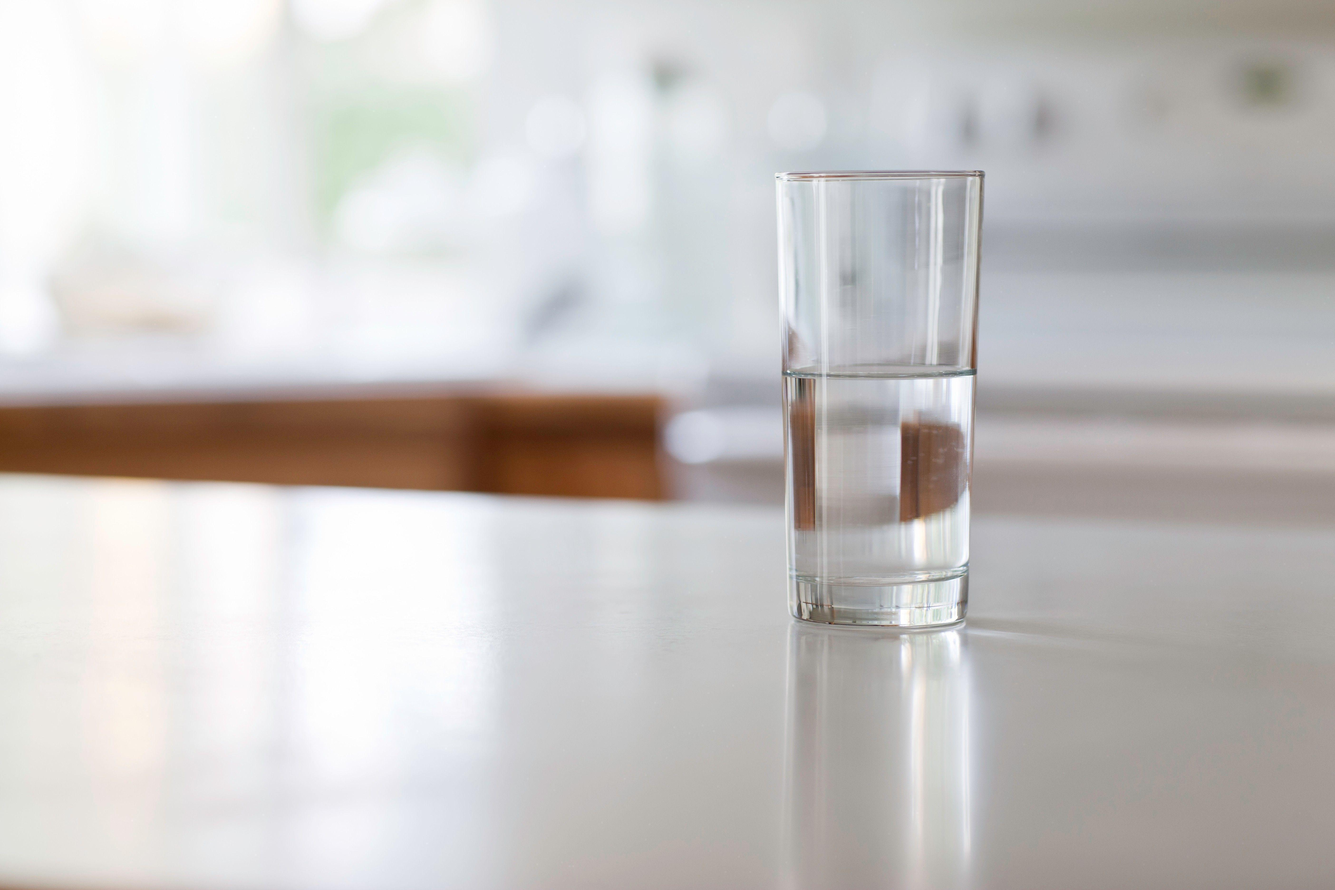glass-normal: (772, 165, 989, 634)
